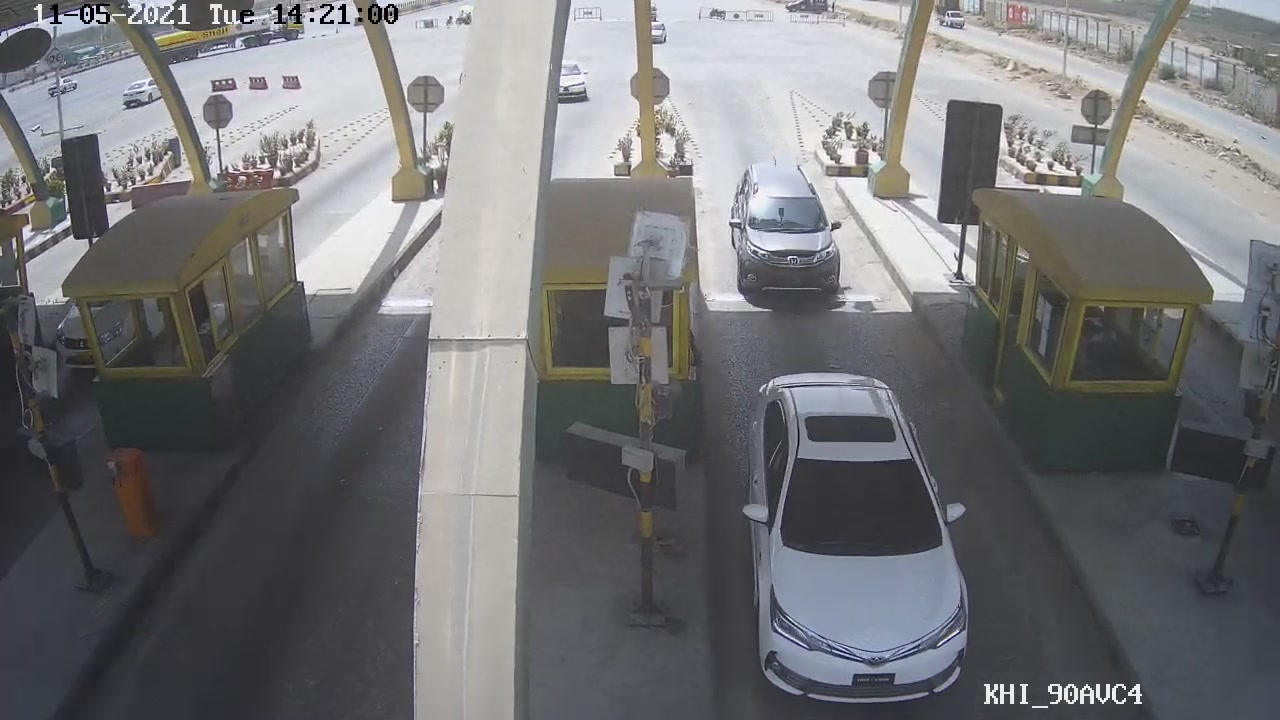F1: (742, 374, 975, 707), (726, 160, 848, 305)
